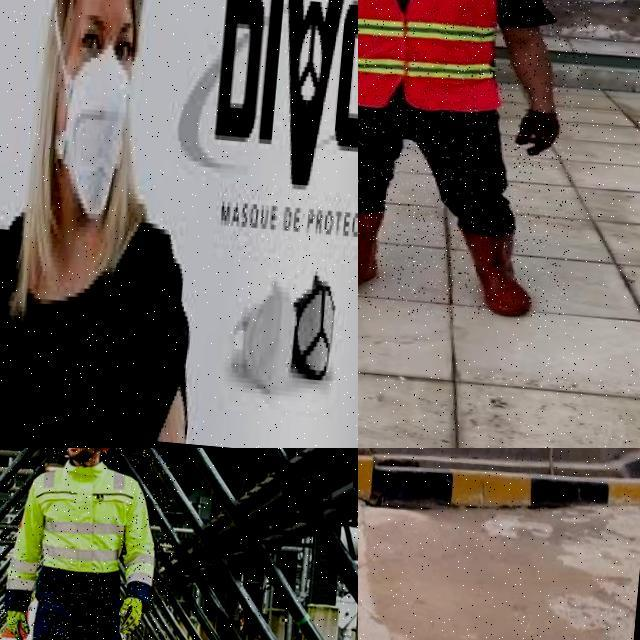boots: (446, 222, 540, 318), (358, 207, 384, 307)
vest: (358, 0, 514, 117), (15, 453, 138, 588)
